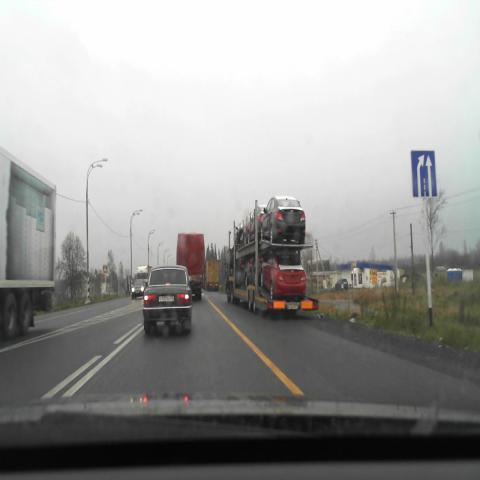5_15_5: (411, 150, 437, 197)
